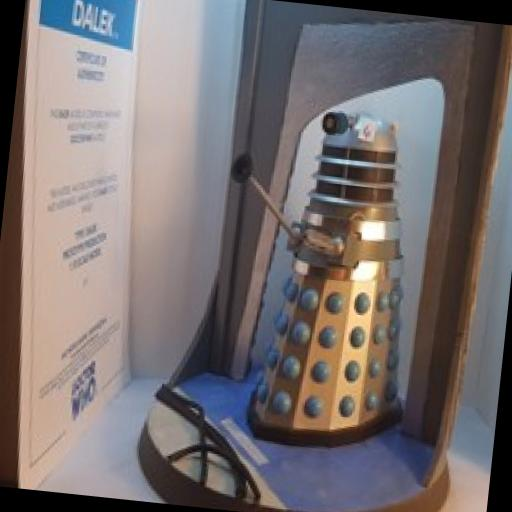dalek: (197, 92, 436, 456)
